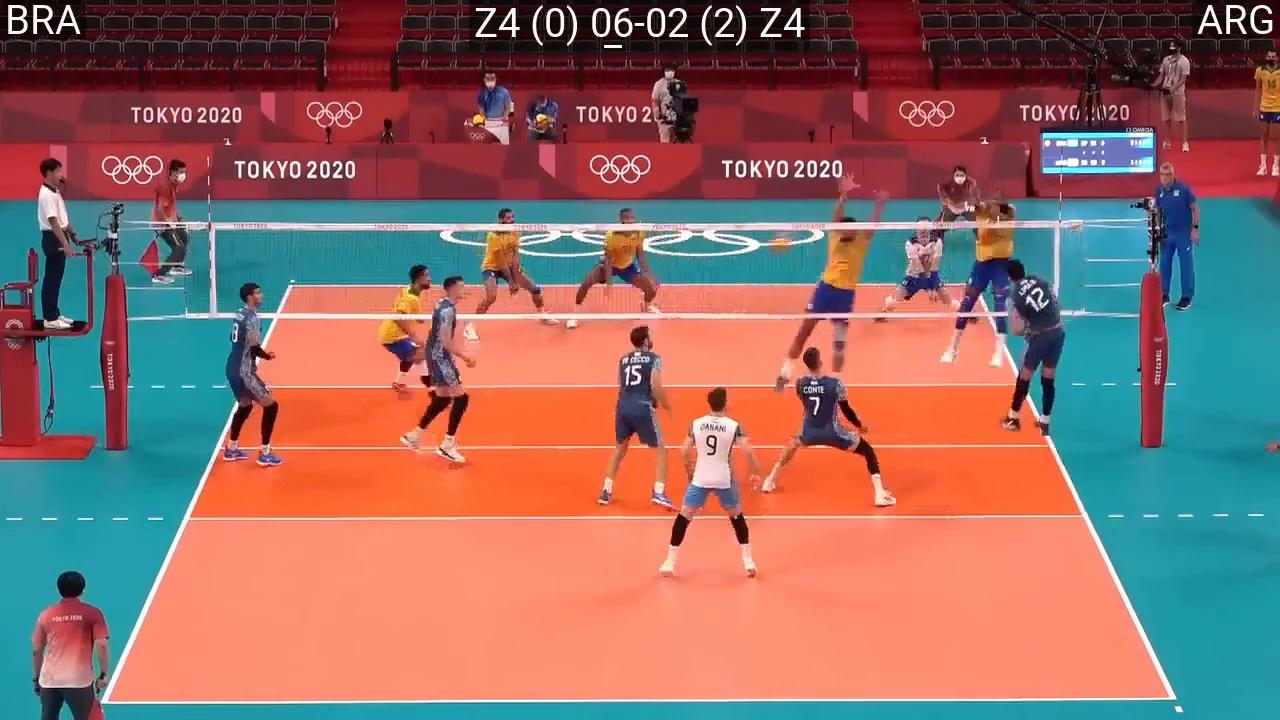ball: (769, 239, 795, 253)
